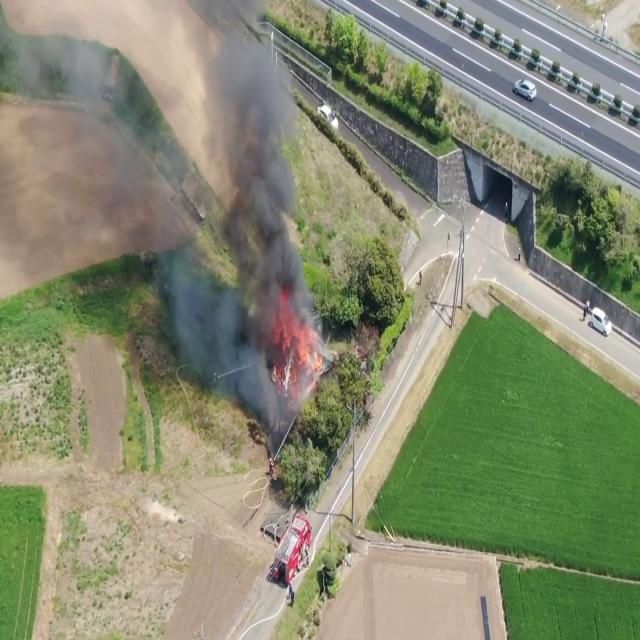Fire: (270, 292, 324, 392)
Smoke: (0, 0, 320, 394)
